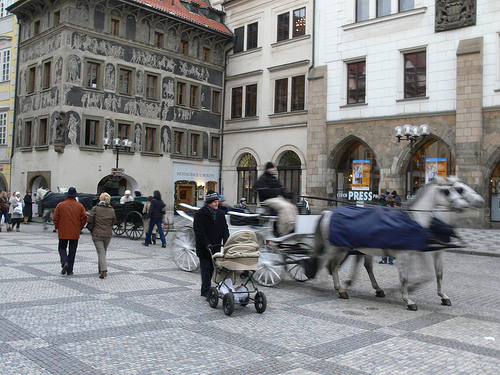horse: (317, 176, 486, 312)
